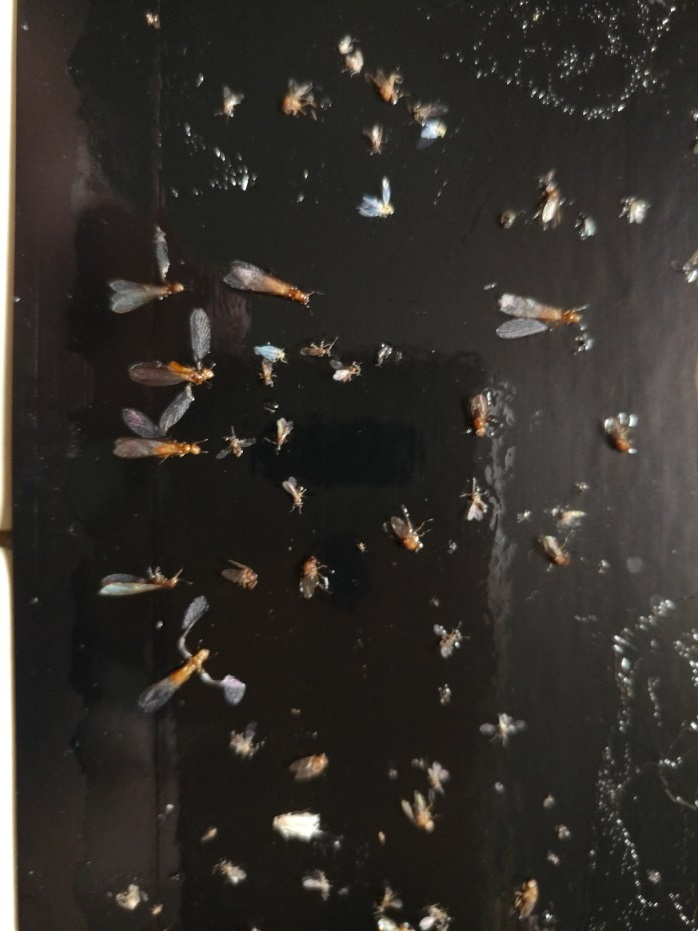termite: (119, 594, 253, 717), (111, 310, 218, 431), (215, 255, 319, 314), (498, 290, 588, 349), (92, 554, 185, 605), (109, 425, 211, 467), (108, 266, 196, 314)
